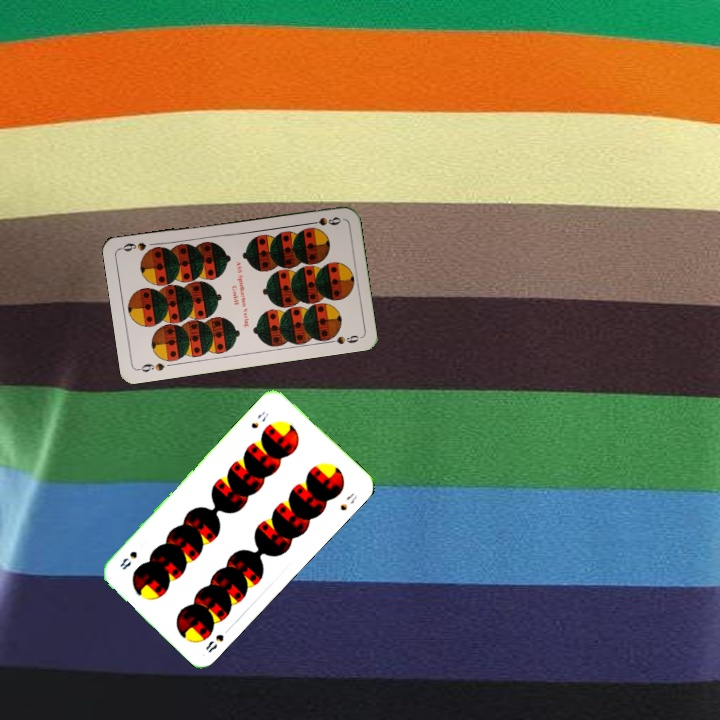S8: (201, 623, 234, 655), (247, 407, 271, 431)
S9: (304, 213, 344, 228), (134, 359, 167, 374)
